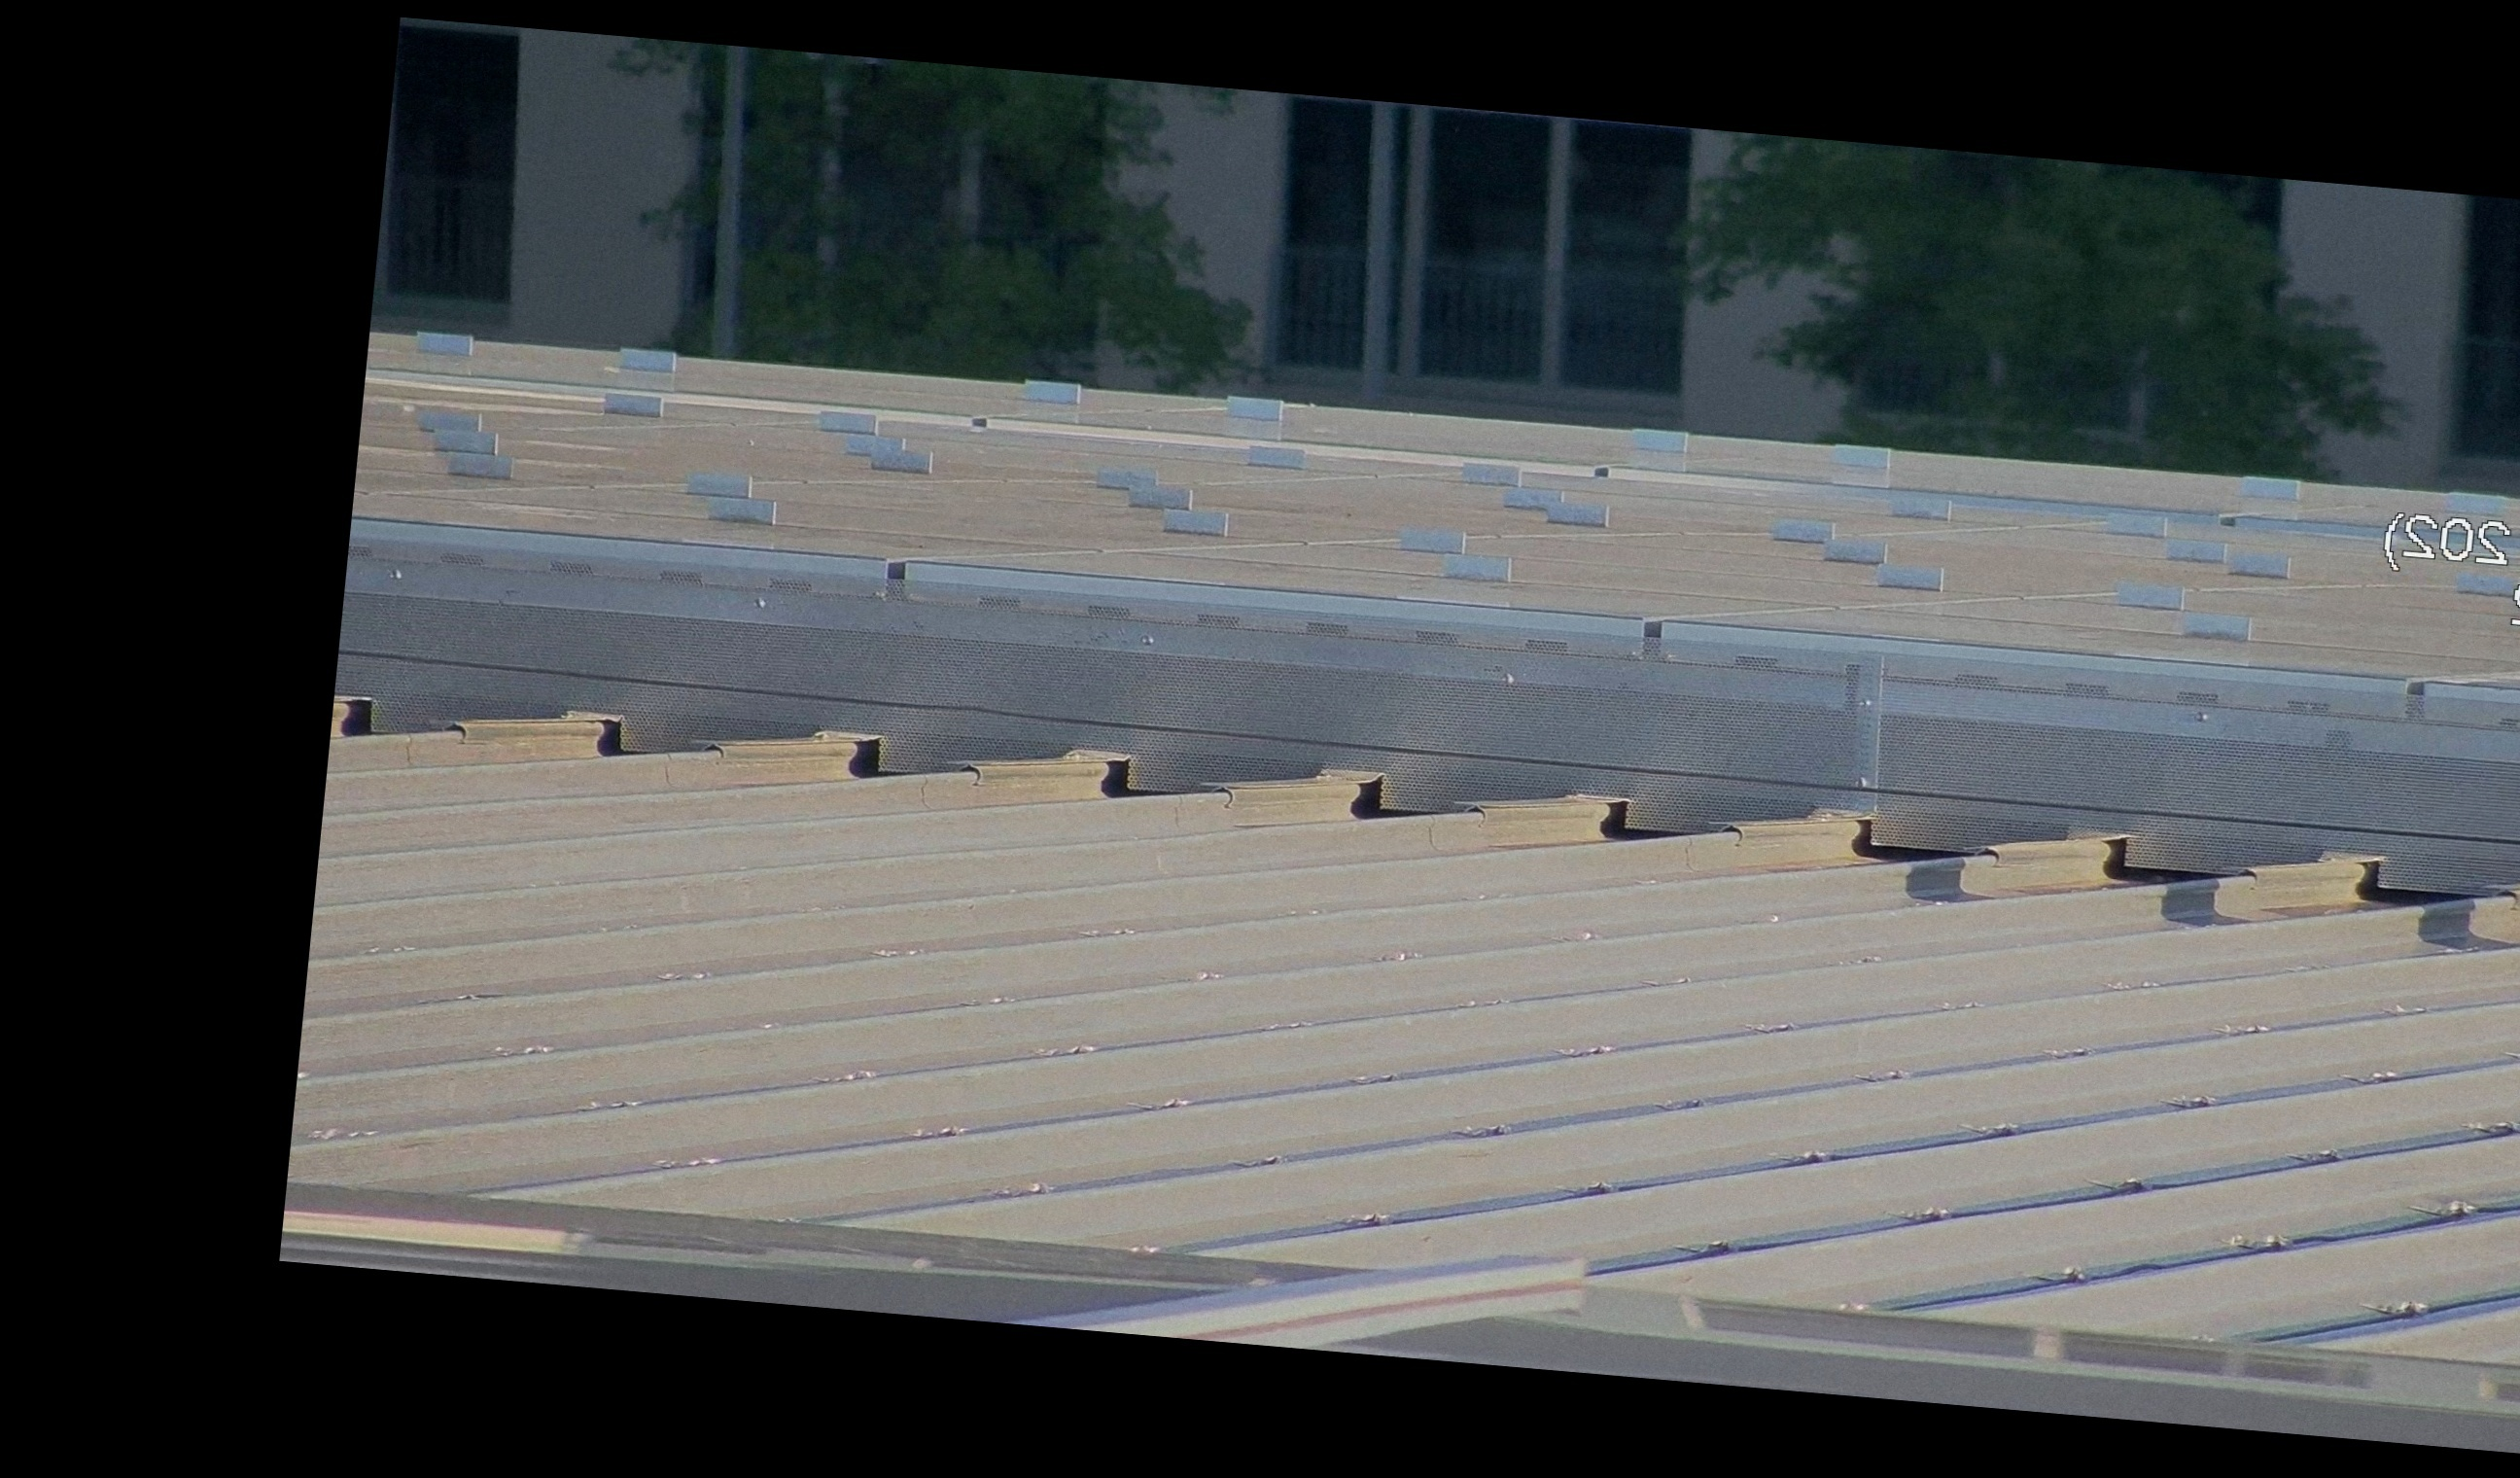Other: (1345, 764, 1410, 829)
